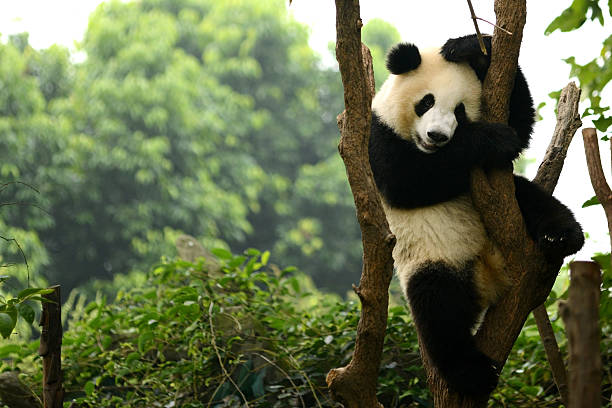panda: (361, 26, 521, 167)
